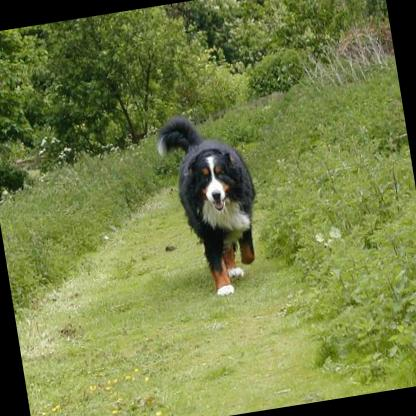Bernese_mountain_dog: (149, 105, 270, 304)
